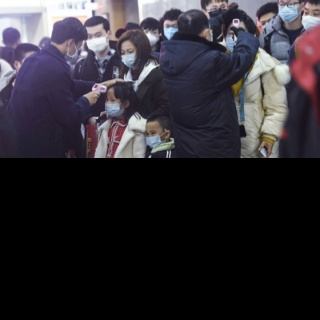with_mask: (223, 27, 247, 52), (84, 29, 108, 52), (277, 0, 301, 23), (300, 5, 320, 32), (120, 46, 141, 69), (104, 94, 124, 116), (144, 128, 164, 148), (64, 45, 83, 62), (142, 27, 157, 47), (163, 22, 178, 40)
